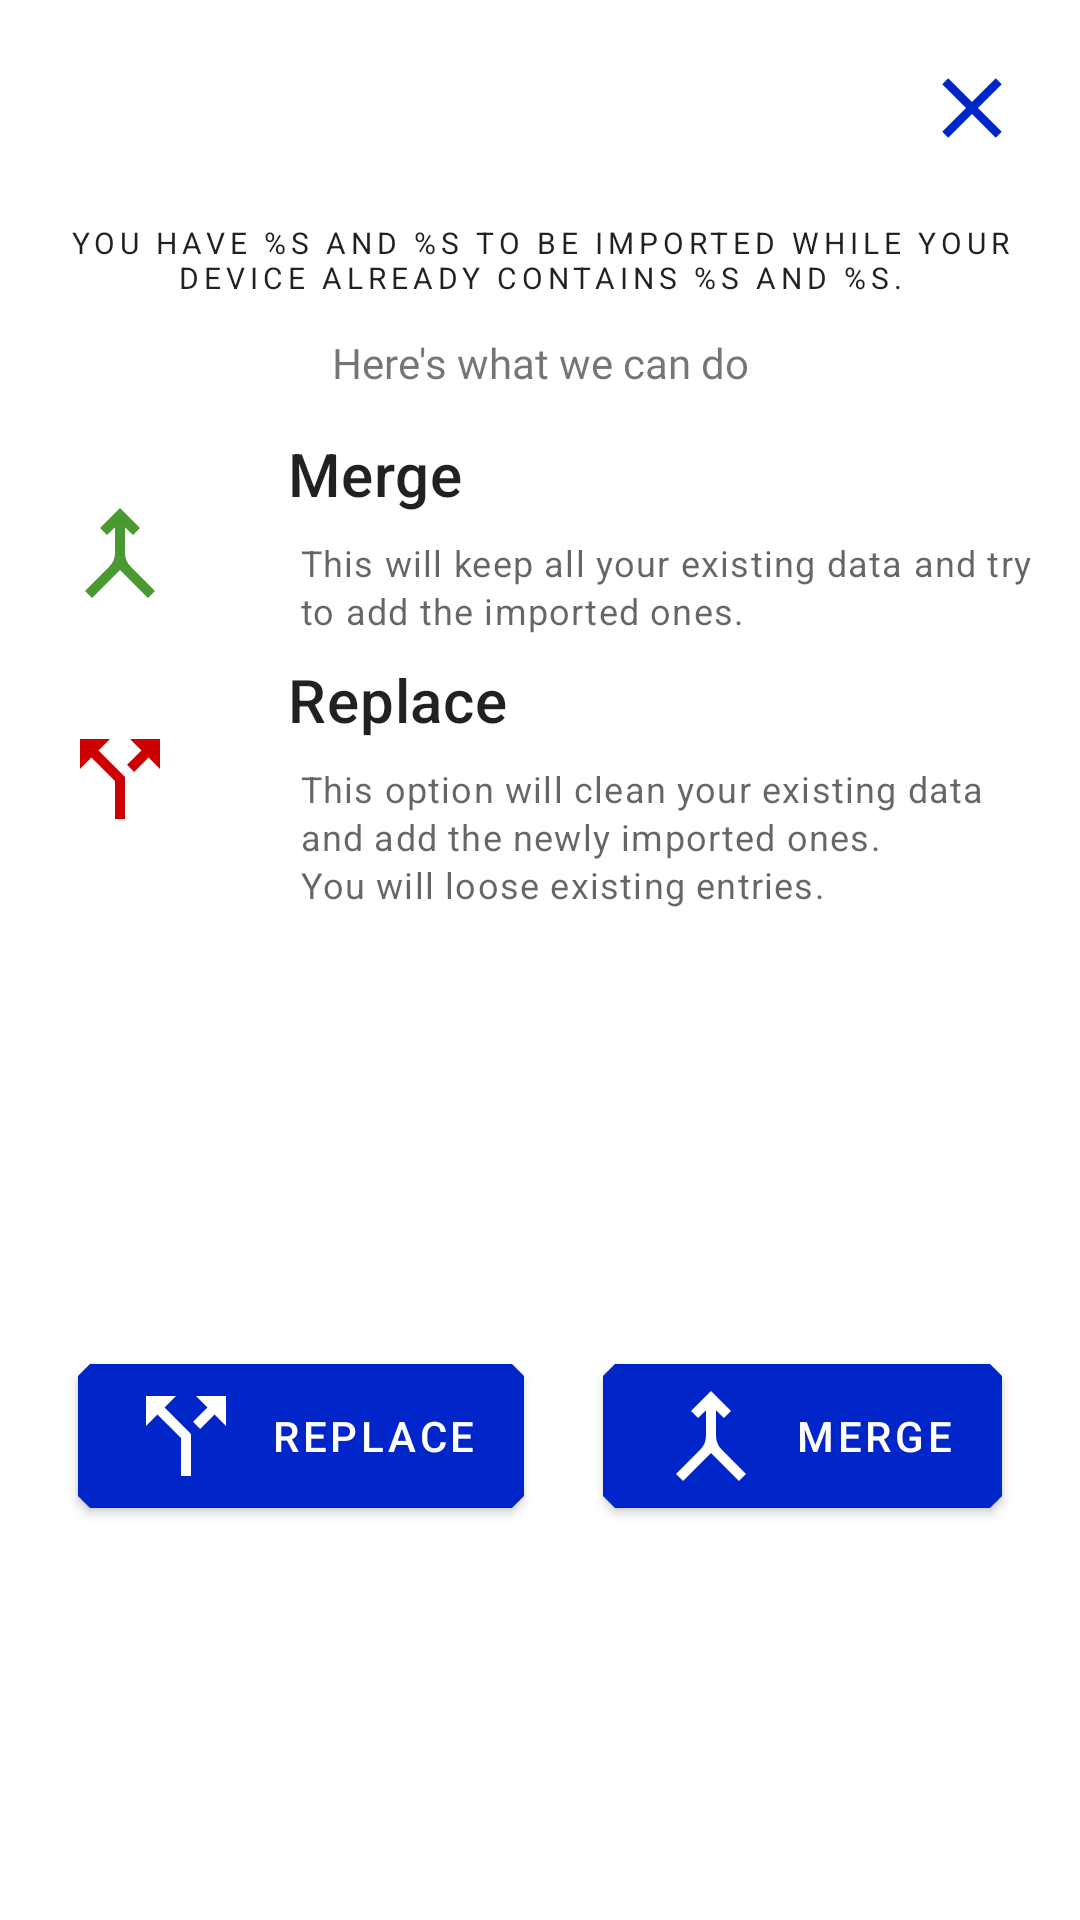

Icons on this 1080px x 1920px Android screen, each with the point to tap as [x,y]:
Close merge options: [972,108]
